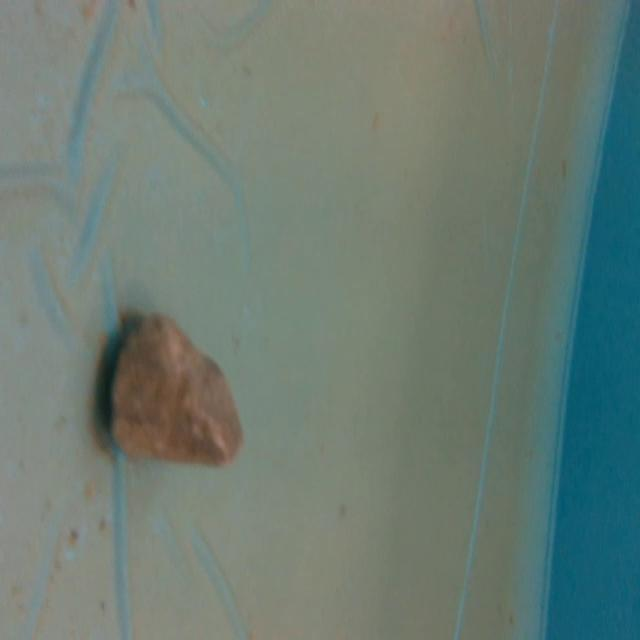rock: (99, 307, 253, 468)
